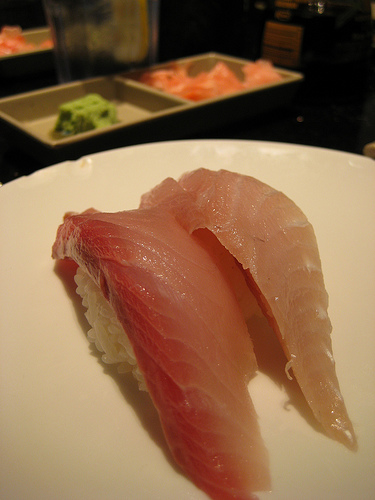fish: (48, 160, 362, 498)
